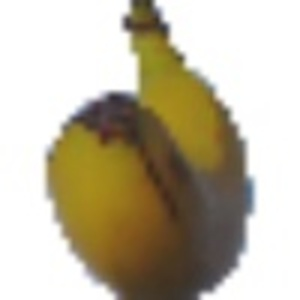banana: (44, 3, 259, 296)
